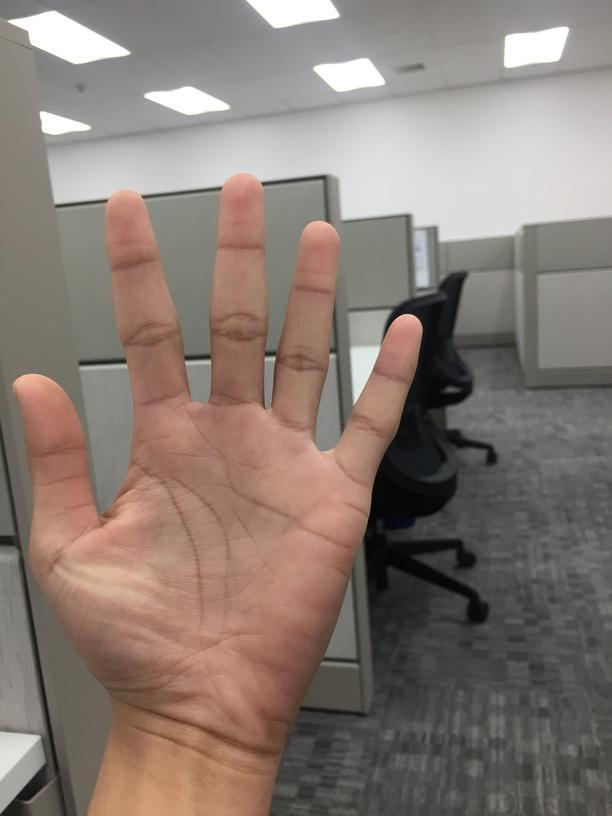hand: (12, 173, 424, 742)
